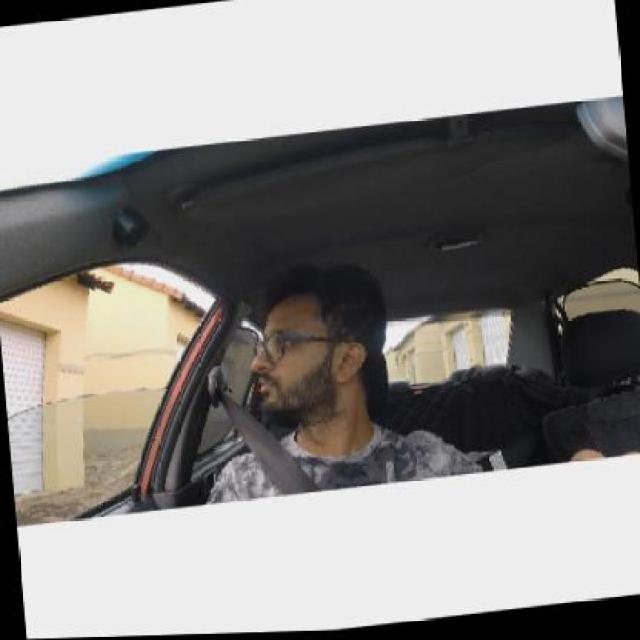LeftRight: (243, 268, 394, 421)
